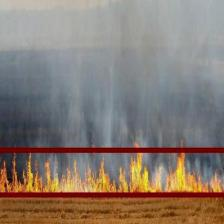fire: (0, 147, 224, 195)
